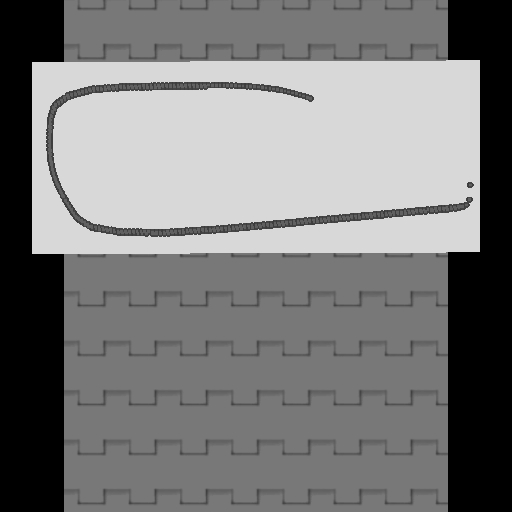Defect: (312, 90, 457, 122)
